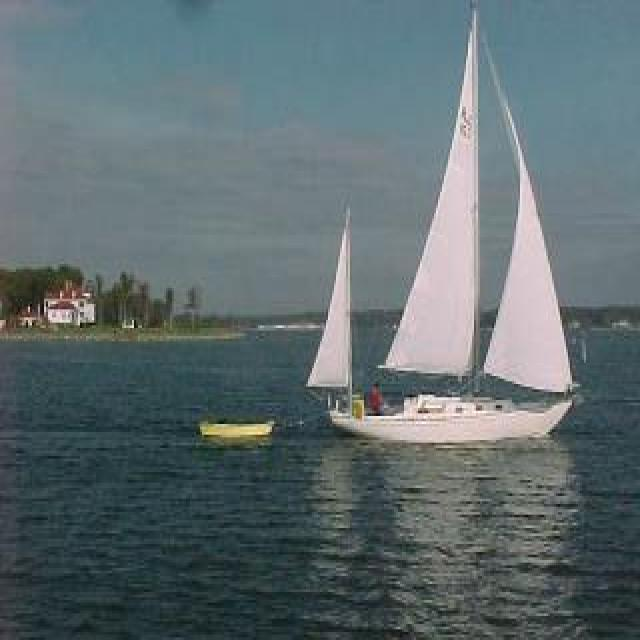Ship: (296, 6, 579, 440)
